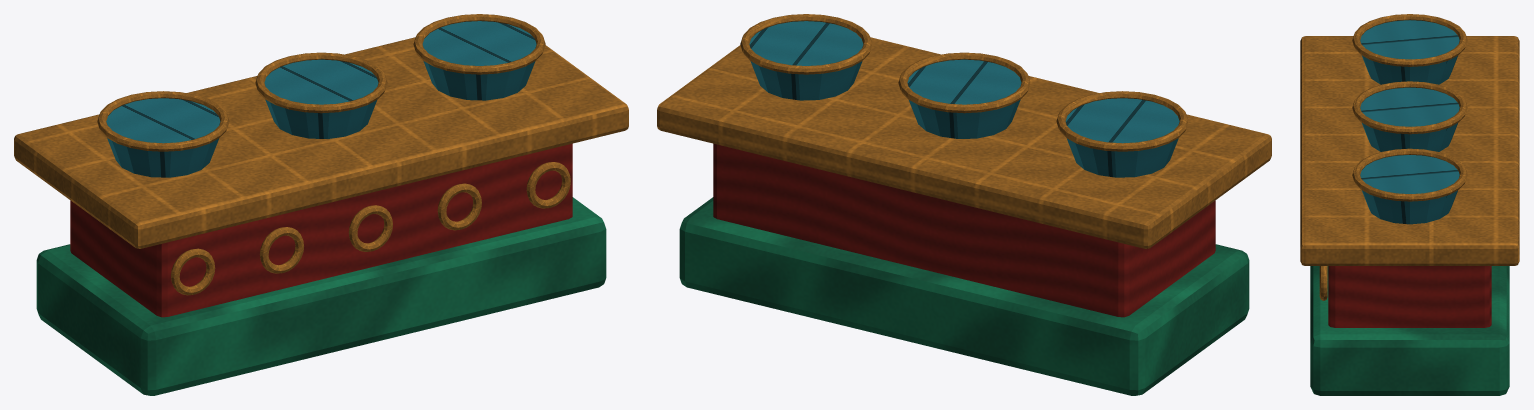
Rendered from prayer_altar.glb.
3 views of the same model, side by side, from view 1: azimuth 30°, elevation 25°; view 2: azimuth 150°, elevation 25°; view 3: azimuth 270°, elevation 25° (orthographic). The views are drawn at different scales.
Parts seen in each view (by area): view 1: prayer_altar_Brass, prayer_altar_Jade, prayer_altar_Lacquer, prayer_altar_Ceramic; view 2: prayer_altar_Brass, prayer_altar_Jade, prayer_altar_Lacquer, prayer_altar_Ceramic; view 3: prayer_altar_Brass, prayer_altar_Jade, prayer_altar_Ceramic, prayer_altar_Lacquer.
Boxes of the visible parts, left/top/right/bottom form: prayer_altar_Brass: left=14, top=14, right=628, bottom=295; prayer_altar_Jade: left=36, top=197, right=606, bottom=395; prayer_altar_Lacquer: left=70, top=143, right=572, bottom=317; prayer_altar_Ceramic: left=106, top=21, right=536, bottom=177; prayer_altar_Brass: left=657, top=14, right=1271, bottom=248; prayer_altar_Jade: left=679, top=197, right=1249, bottom=395; prayer_altar_Lacquer: left=713, top=143, right=1215, bottom=317; prayer_altar_Ceramic: left=749, top=21, right=1179, bottom=177; prayer_altar_Brass: left=1300, top=14, right=1519, bottom=300; prayer_altar_Jade: left=1310, top=266, right=1509, bottom=395; prayer_altar_Ceramic: left=1360, top=20, right=1459, bottom=224; prayer_altar_Lacquer: left=1328, top=266, right=1491, bottom=327.
Size of the model in its own units: 2.5 by 1.09 by 1.1.
Materials: 4 (4 with a texture image).
